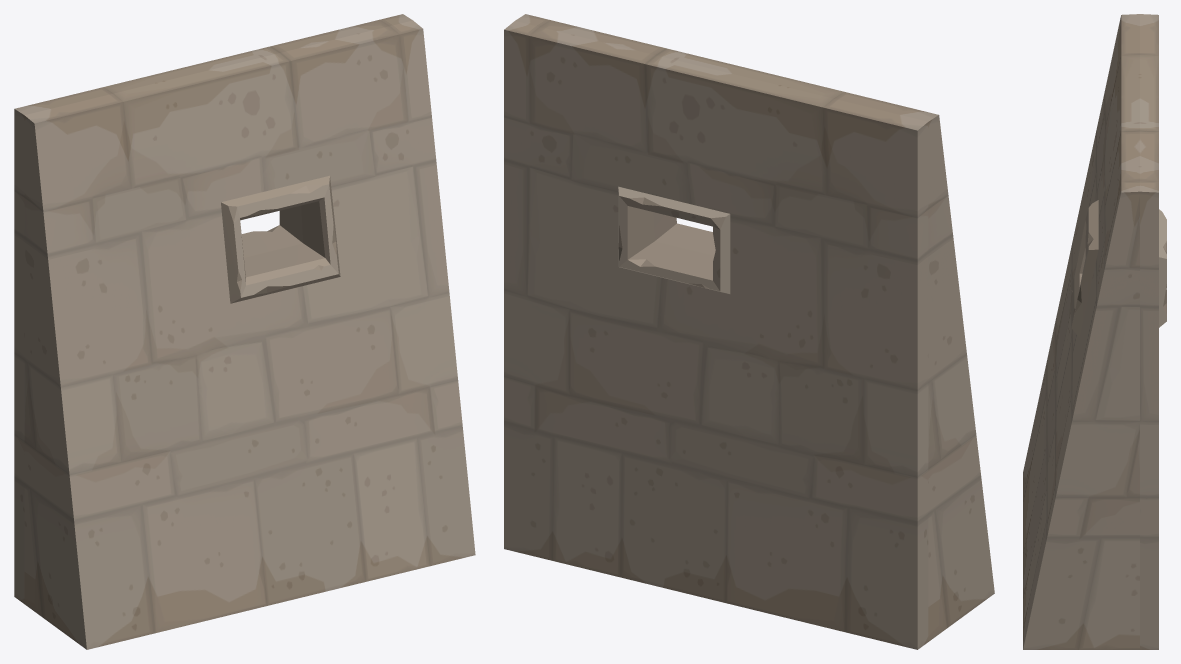
The model's file is SM_Bld_Wall_Temple_Top_Window_01.fbx.
3 renders of one model, left to right at view 1: azimuth 30°, elevation 25°; view 2: azimuth 150°, elevation 25°; view 3: azimuth 270°, elevation 25°, orthographic. The views are drawn at different scales.
Parts seen in each view (by area): view 1: SM_Bld_Wall_Temple_Top_Window_01; view 2: SM_Bld_Wall_Temple_Top_Window_01; view 3: SM_Bld_Wall_Temple_Top_Window_01.
Part boxes in pixels (bbox=[...]): SM_Bld_Wall_Temple_Top_Window_01: bbox=[14, 14, 475, 649]; SM_Bld_Wall_Temple_Top_Window_01: bbox=[504, 14, 994, 649]; SM_Bld_Wall_Temple_Top_Window_01: bbox=[1023, 14, 1166, 649].
Size of the model in its own units: 500 by 601 by 171.
